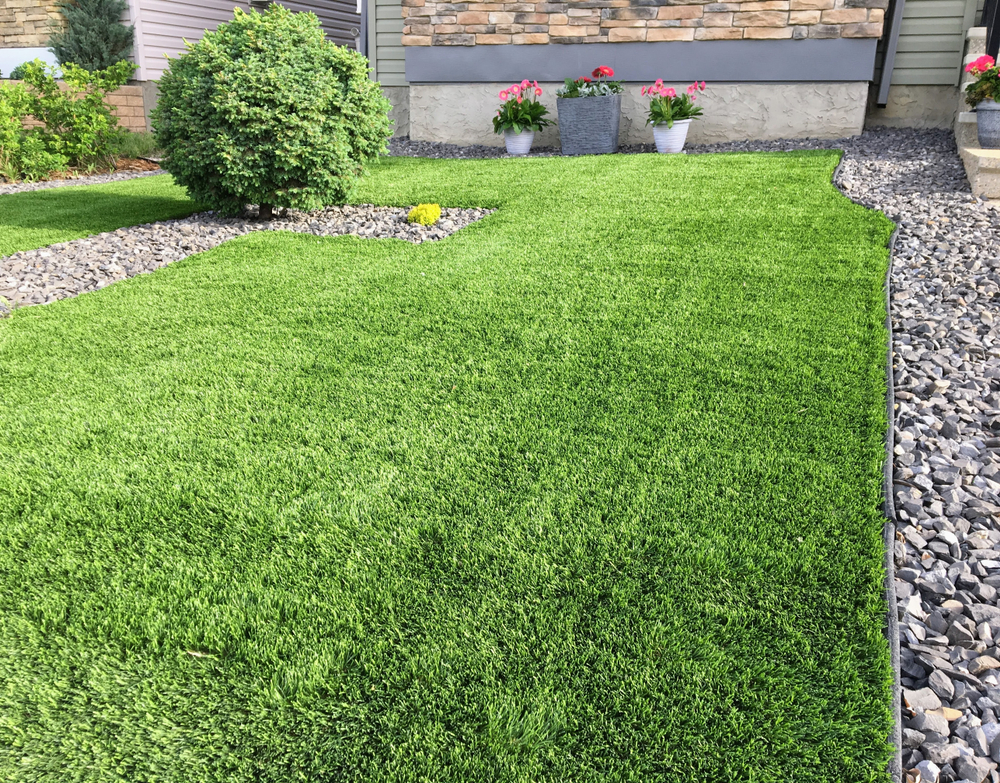grass: (3, 305, 890, 780), (484, 160, 885, 301), (124, 235, 480, 301)
rock: (895, 206, 999, 774)
